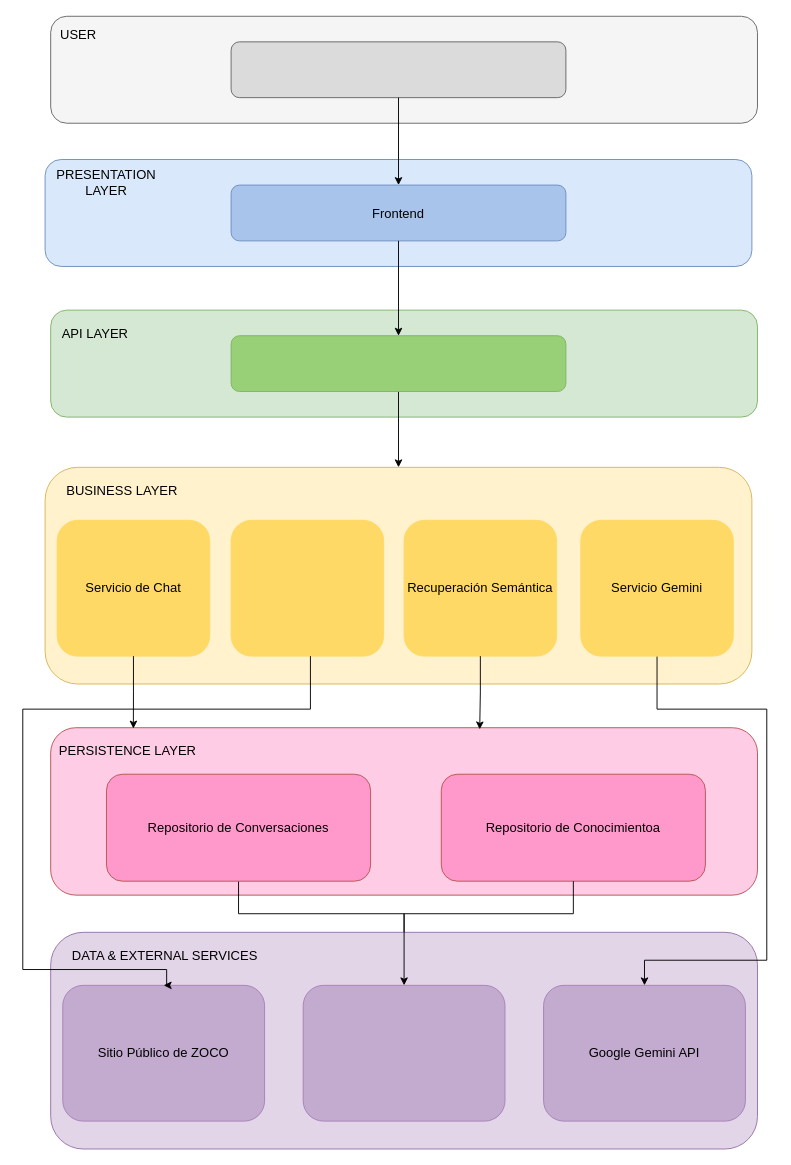
Image size: 791x1165. Some labels were removed from this diagram. The centre of each missing label's shape, as x and y in pixels:
"Base de Datos MongoDB" belongs at [403,1052].
"Rutas FastAPI" belongs at [398,363].
"Servicio de Conocimiento" belongs at [307,587].
"Usuario / Cliente" belongs at [398,69].
